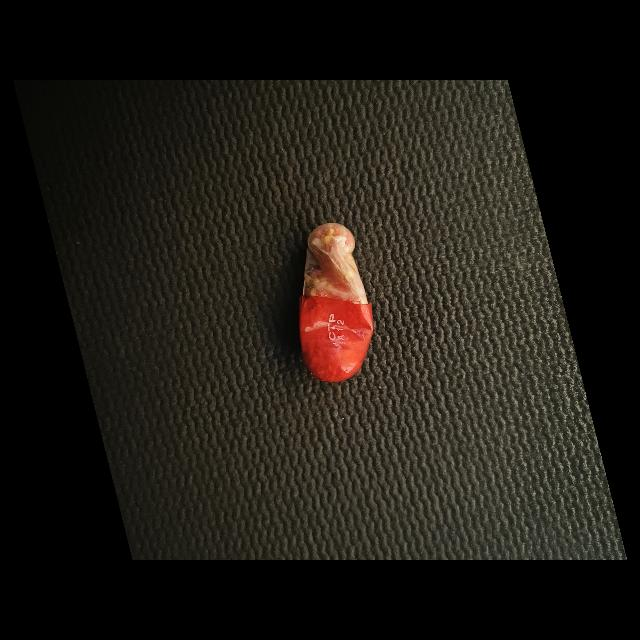Defective Capsule: (300, 223, 373, 382)
